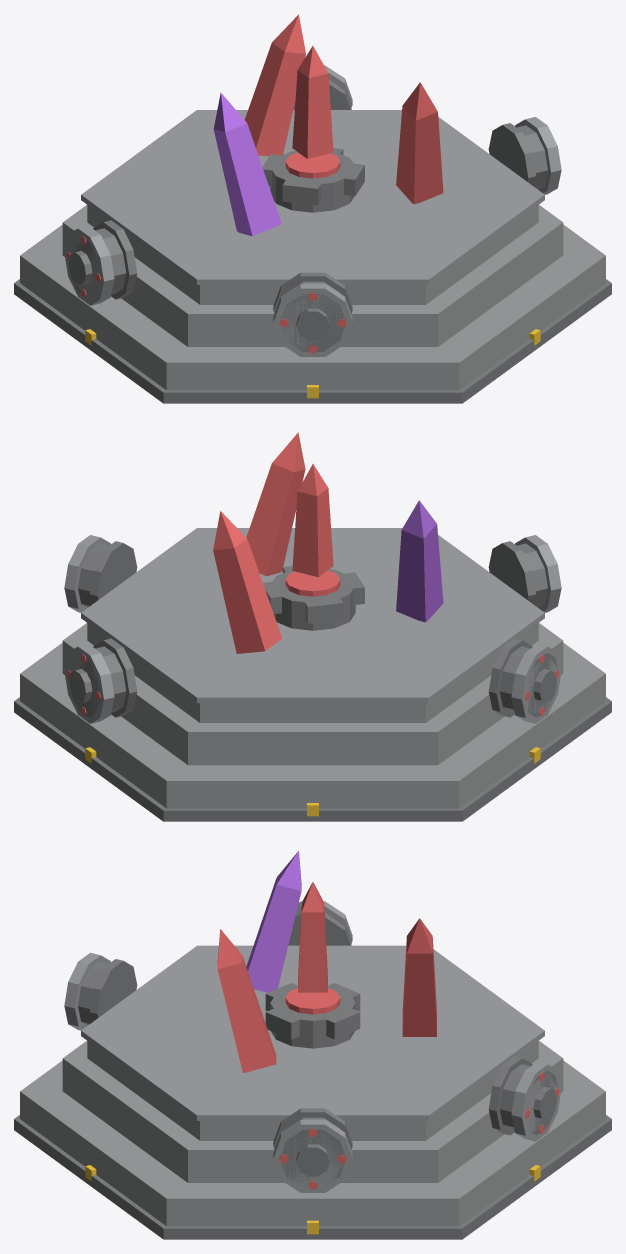
Rendered from energy_node_s2_100.glb.
3 renders of one model, top to bottom at view 1: azimuth 30°, elevation 25°; view 2: azimuth 150°, elevation 25°; view 3: azimuth 270°, elevation 25°, orthographic.
Parts seen in each view (by area): view 1: EnergyNode_s2; view 2: EnergyNode_s2; view 3: EnergyNode_s2.
Part boxes in pixels (x1,y1,x2,y2): EnergyNode_s2: (14,14,611,403); EnergyNode_s2: (14,432,611,821); EnergyNode_s2: (14,851,611,1239).
Bounding box in the file's own units: 1.78 × 0.9 × 1.96.
